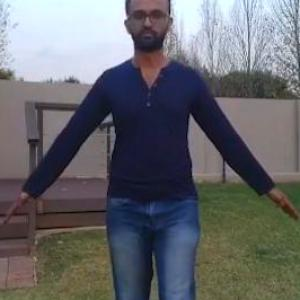land: (36, 7, 274, 299)
